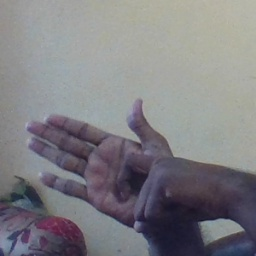R: (26, 88, 189, 234)
